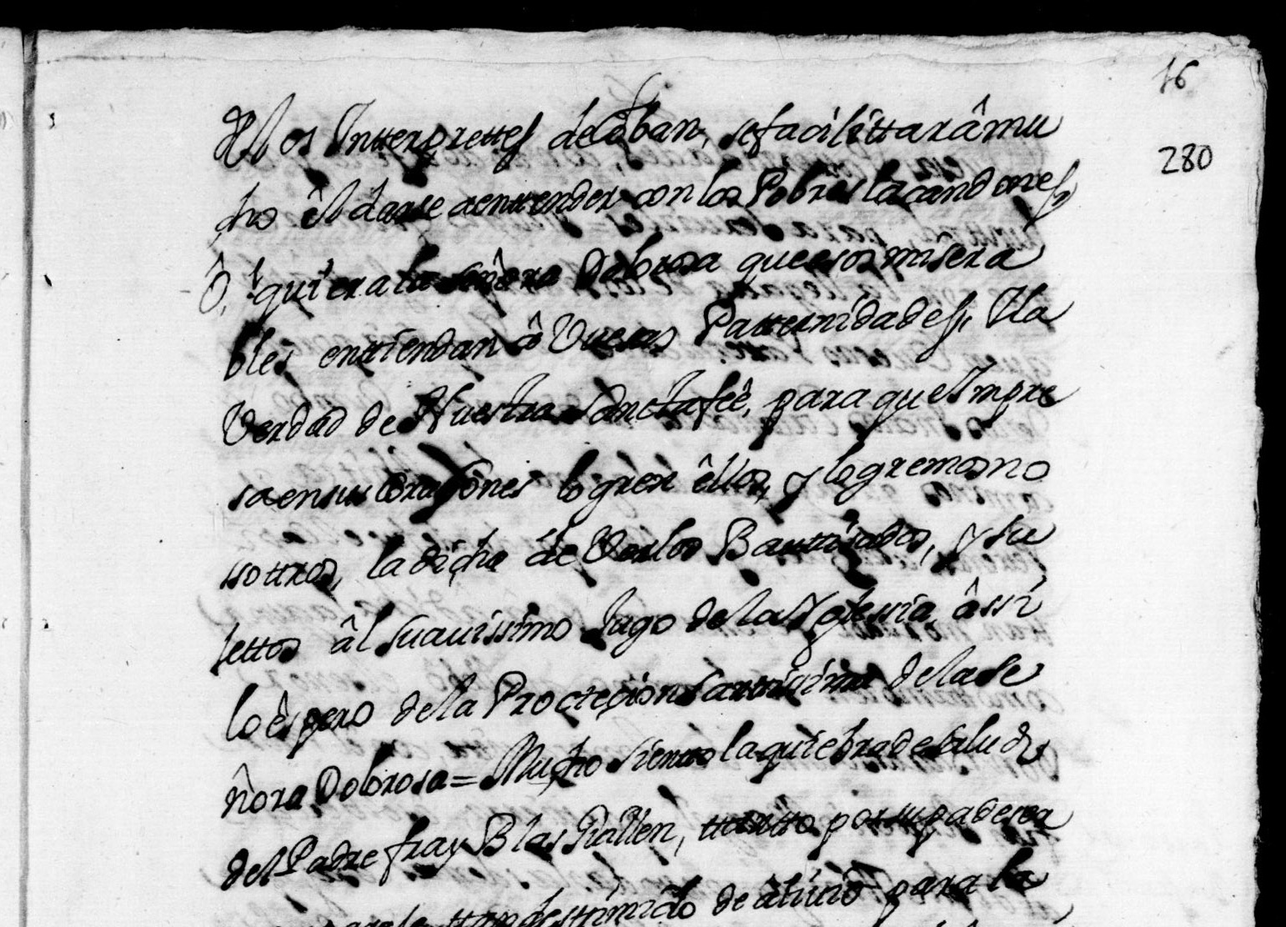lacandon: (862, 158, 1079, 233)
